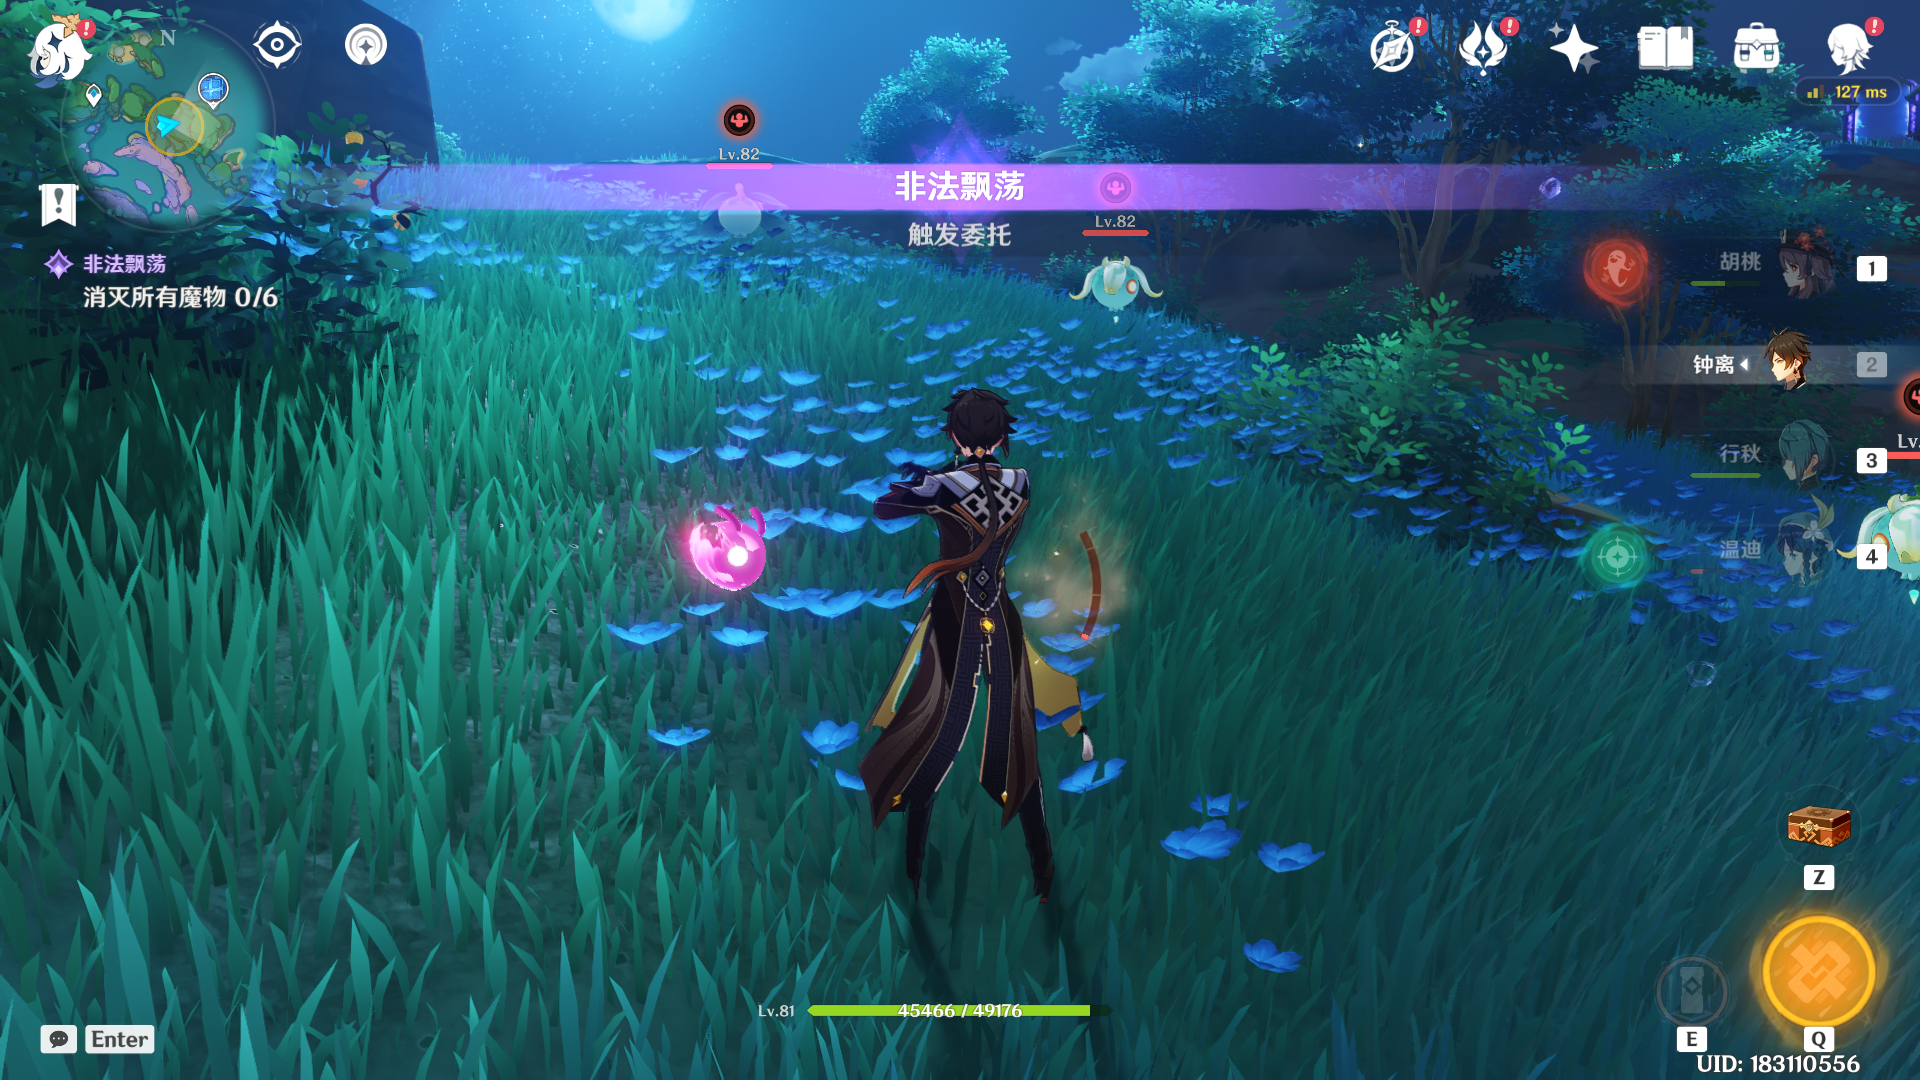character: (782, 357, 1175, 956)
